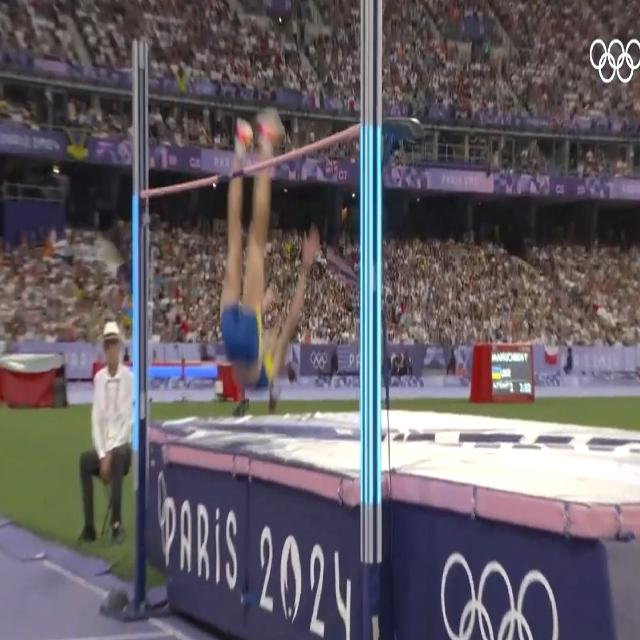land: (219, 109, 320, 397)
